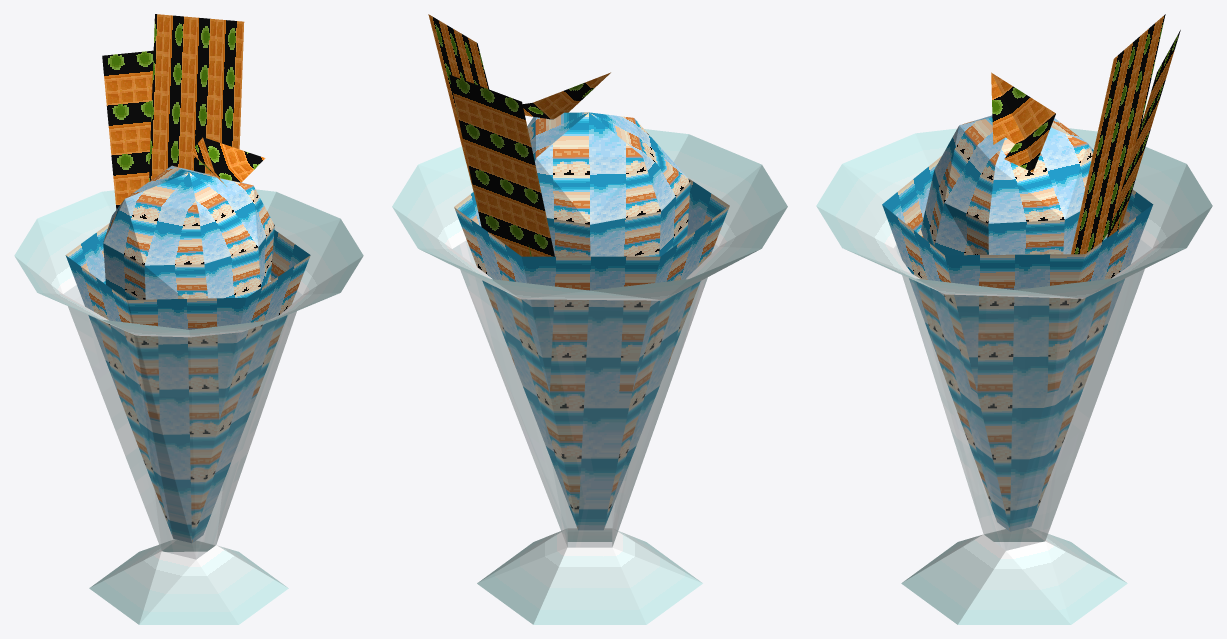
File: parfait_bl.gltf
3 renders of one model, left to right at view 1: azimuth 30°, elevation 25°; view 2: azimuth 150°, elevation 25°; view 3: azimuth 270°, elevation 25°, orthographic. The views are drawn at different scales.
Parts seen in each view (by area): view 1: parfait_bl; view 2: parfait_bl; view 3: parfait_bl.
Part boxes in pixels (x1=…): parfait_bl: x1=14, y1=14, x2=363, y2=624; parfait_bl: x1=392, y1=14, x2=787, y2=624; parfait_bl: x1=816, y1=14, x2=1212, y2=624.
Size of the model in its own units: 0.6074 by 0.9897 by 0.6055.
4 materials, 4 textured.
